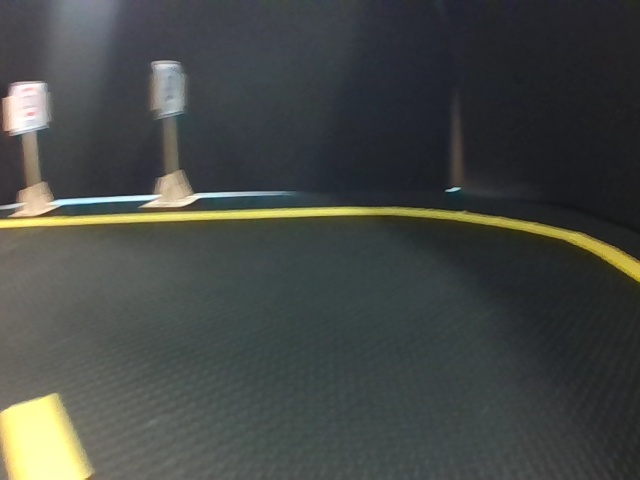30: (12, 80, 47, 128)
no30: (156, 63, 180, 117)
